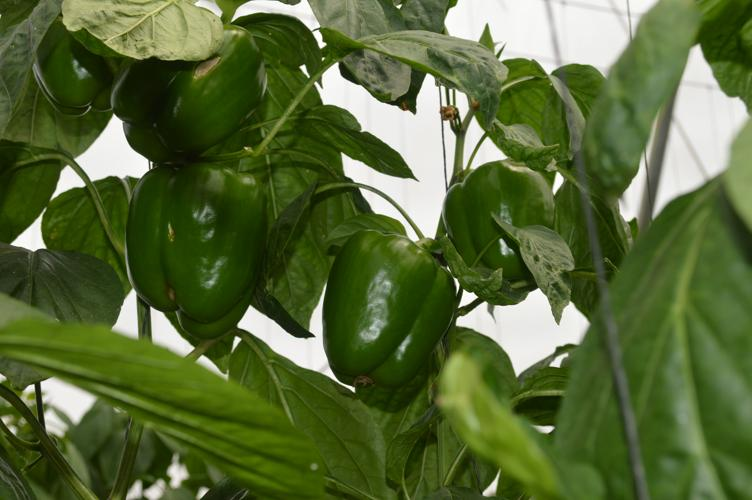BellPepper: (129, 166, 267, 340), (111, 29, 272, 166), (329, 232, 455, 383), (440, 156, 560, 293), (33, 41, 107, 117)
